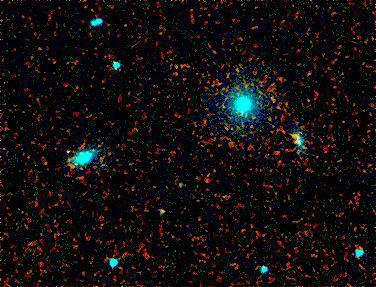star: (277, 119, 307, 149)
